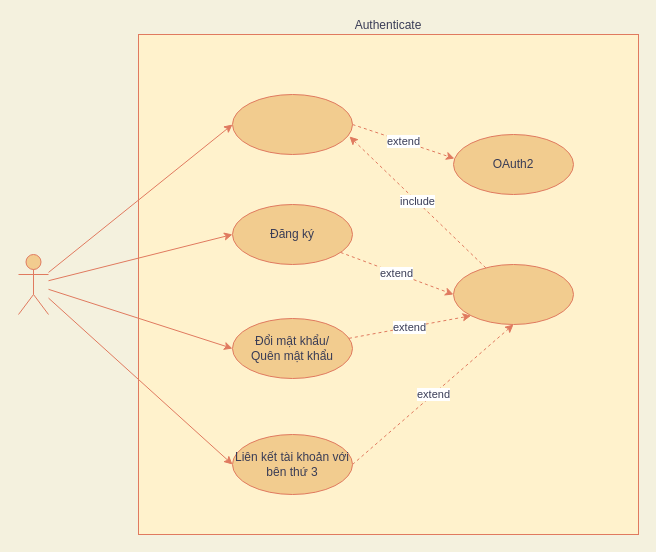
Some shapes in this 656 by 552 pixel diagram are drawn without their labels. Each missing label, with the centre of its shape:
Guest: (33,284)
Xác thực qua email: (513,294)
Đăng nhập: (292,124)
